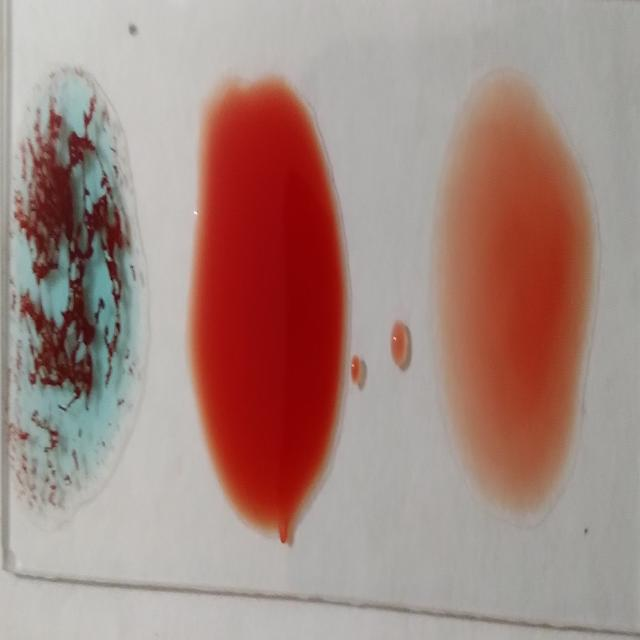A: (9, 57, 128, 510)
